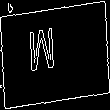M_S: (40, 27, 70, 83)
